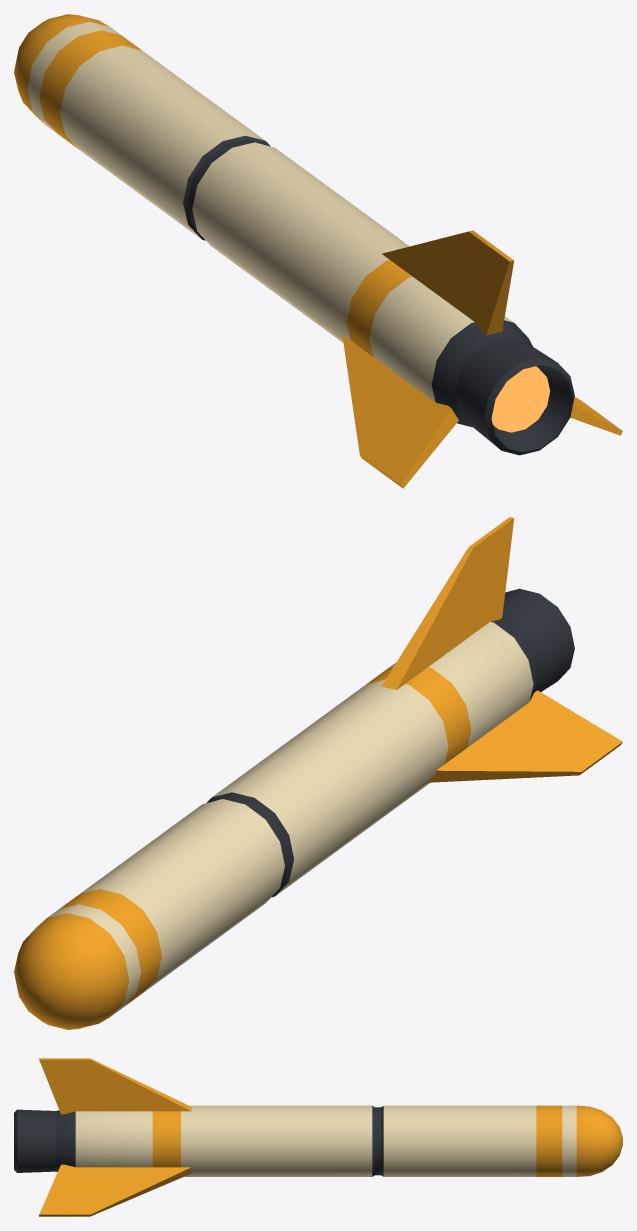
File: mini_missile.glb
The picture shows the model from 3 angles, top to bottom: view 1: azimuth 30°, elevation 25°; view 2: azimuth 150°, elevation 25°; view 3: azimuth 270°, elevation 25°; orthographic projection. The views are drawn at different scales.
Visible parts, largest first — view 1: Mini_Body, Mini_Fins, Mini_Engine, Mini_Exhaust; view 2: Mini_Body, Mini_Fins, Mini_Engine; view 3: Mini_Body, Mini_Fins, Mini_Engine.
Part boxes in pixels (left/top/right/bottom): Mini_Body: left=14, top=14, right=532, bottom=427; Mini_Fins: left=342, top=230, right=622, bottom=488; Mini_Engine: left=455, top=337, right=574, bottom=455; Mini_Exhaust: left=491, top=366, right=549, bottom=432; Mini_Body: left=14, top=617, right=541, bottom=1029; Mini_Fins: left=382, top=517, right=622, bottom=782; Mini_Engine: left=502, top=588, right=574, bottom=691; Mini_Body: left=56, top=1105, right=622, bottom=1176; Mini_Fins: left=39, top=1058, right=191, bottom=1216; Mini_Engine: left=14, top=1109, right=55, bottom=1172.
Bounding box in the file's own units: 0.196 × 0.1697 × 0.751.
